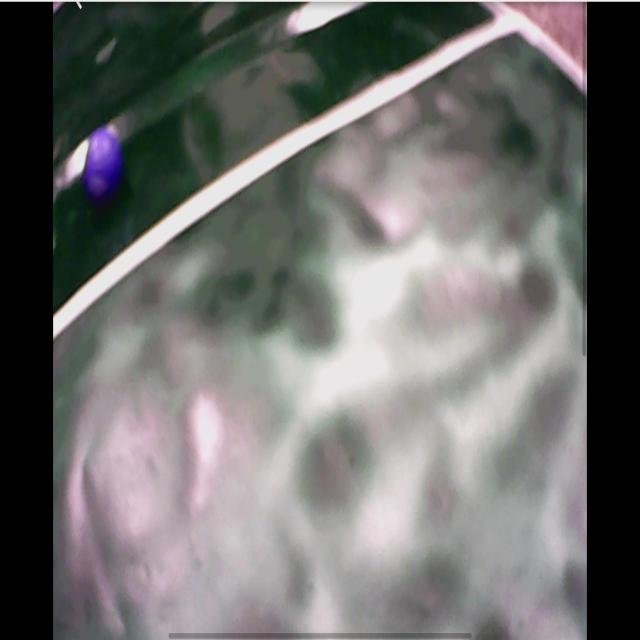ball: (85, 128, 126, 196)
